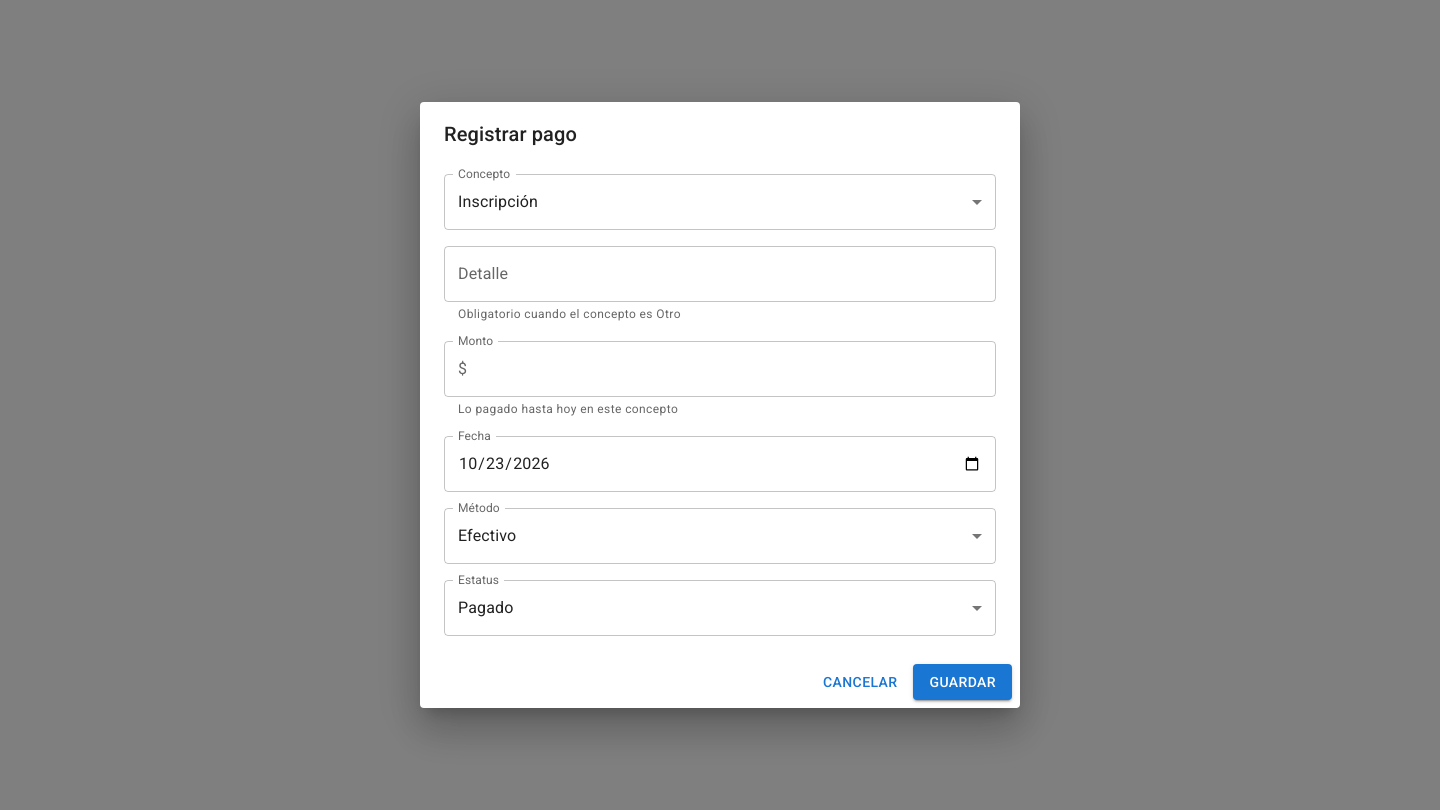
Scenario: an invalid amount blocks the save
In the field labelled "Monto": x=736, y=369 [475,341,996,397], type "1e3"
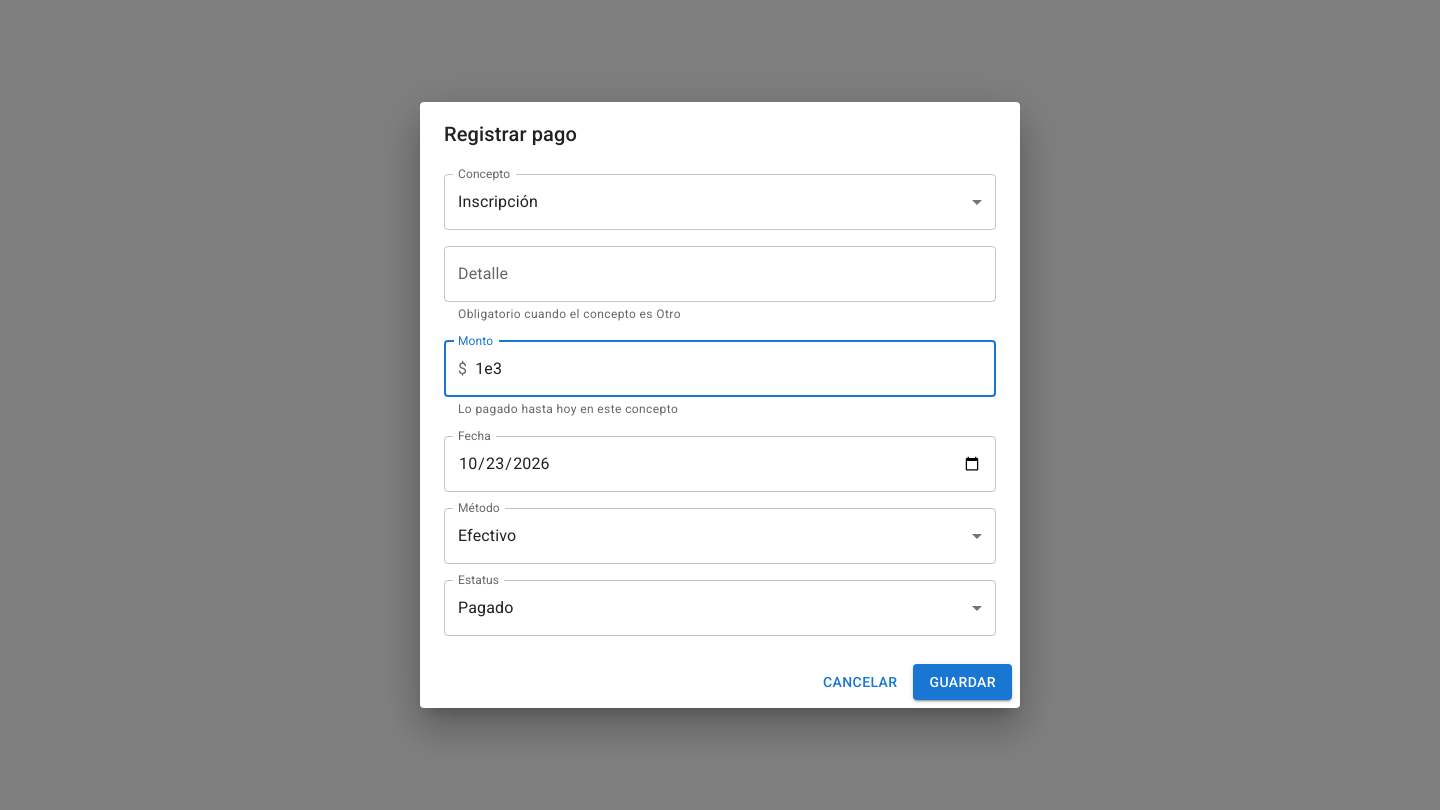
Click the button "Guardar": x=963, y=682 [914,664,1012,700]
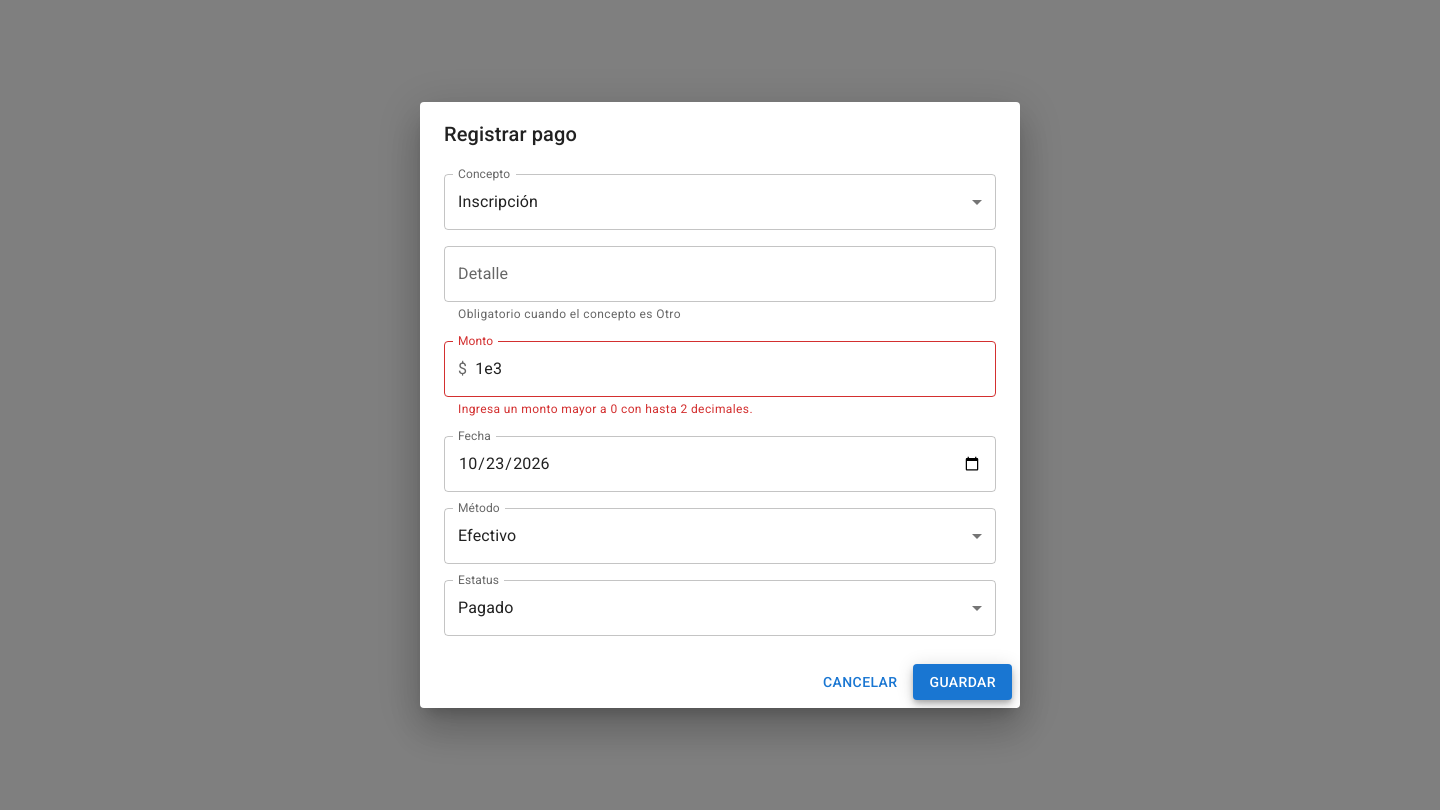
Expected: the text "Ingresa un monto mayor a 0 con hasta 2 decimales." is shown, [458,402,753,416]
